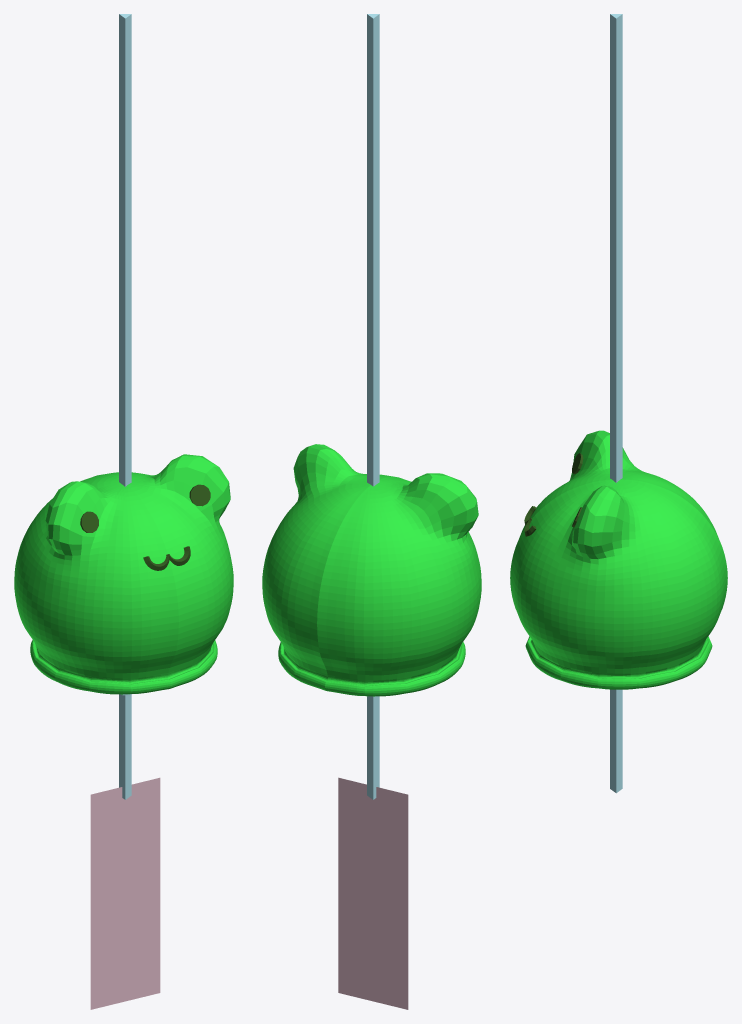
Rendered from windchime.glb.
The picture shows the model from 3 angles, left to right: view 1: azimuth 30°, elevation 25°; view 2: azimuth 150°, elevation 25°; view 3: azimuth 270°, elevation 25°; orthographic projection.
Parts seen in each view (by area): view 1: windchime; view 2: windchime; view 3: windchime.
Part boxes in pixels (left/top/right/bottom): windchime: left=14, top=14, right=233, bottom=1009; windchime: left=262, top=14, right=481, bottom=1009; windchime: left=510, top=14, right=727, bottom=793.
Size of the model in its own units: 0.2997 by 1.49 by 0.3.
